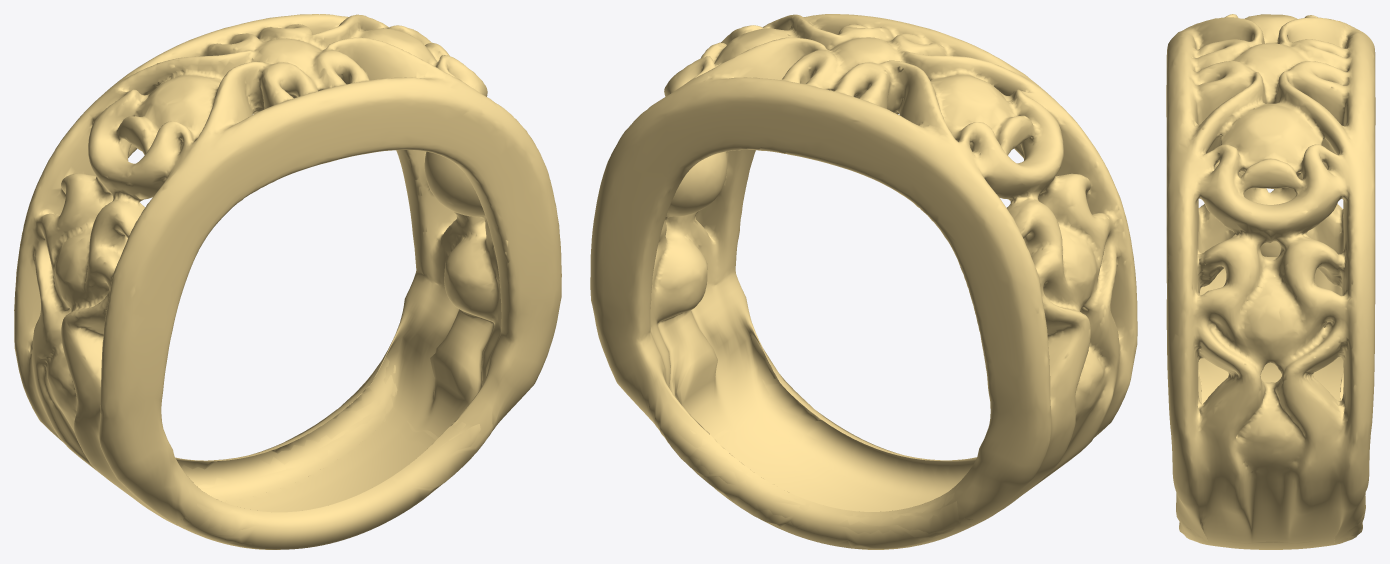
File: premium.glb
The picture shows the model from 3 angles, left to right: view 1: azimuth 30°, elevation 25°; view 2: azimuth 150°, elevation 25°; view 3: azimuth 270°, elevation 25°; orthographic projection.
Parts seen in each view (by area): view 1: Ring2; view 2: Ring2; view 3: Ring2.
Part boxes in pixels (x1,y1,x2,y2): Ring2: (14,14,561,549); Ring2: (590,14,1137,549); Ring2: (1166,14,1375,549).
Size of the model in its own units: 20 by 19.45 by 7.78.
